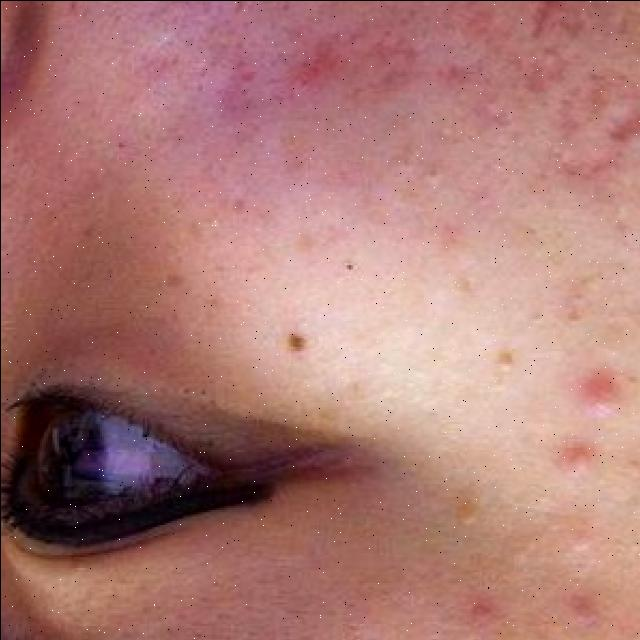nodules: (572, 364, 634, 424), (548, 439, 604, 487)
